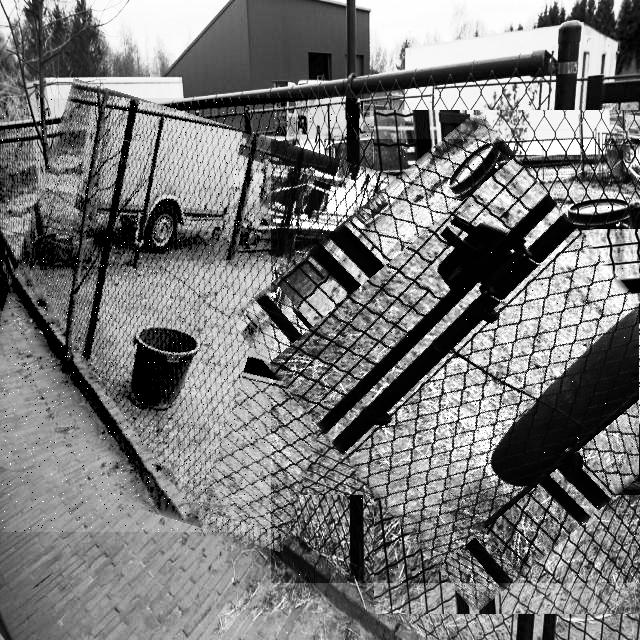fences: (271, 139, 640, 583), (0, 98, 371, 532)
